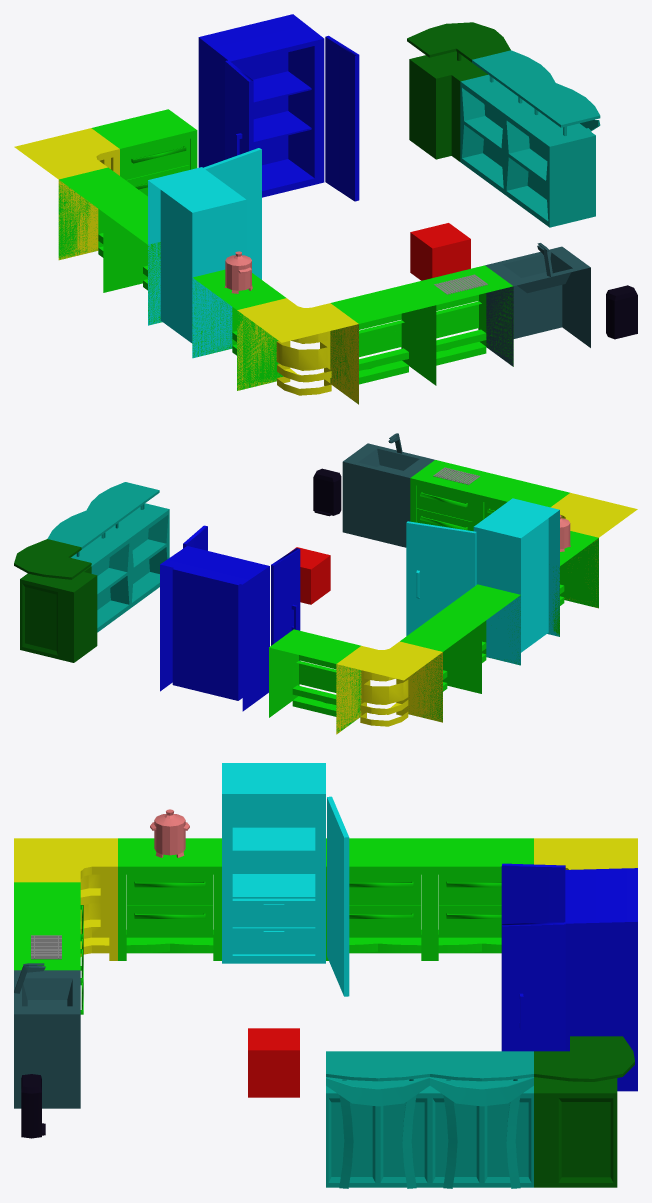
File: Test_large 2.fbx
3 renders of one model, top to bottom at view 1: azimuth 30°, elevation 25°; view 2: azimuth 150°, elevation 25°; view 3: azimuth 270°, elevation 25°, orthographic. The views are drawn at different scales.
Visible parts, largest first — view 1: Aufbewahrungsschrank, Kühlschrank_1_low, Kundentheke_1_gerade_low1, Küchentheke_1_ecke_low1, Waschbecken_1_low, Kundentheke_1_ecke_low, Küchentheke_1_gerade_low5, Küchentheke_1_gerade_low6, Kundentheke_1_gerade_low, Küchentheke_1_gerade_low2, Küchentheke_1_gerade_low1, Küchentheke_1_ecke_low (+6 smaller); view 2: Aufbewahrungsschrank, Kühlschrank_1_low, Kundentheke_1_ecke_low, Küchentheke_1_ecke_low, Waschbecken_1_low, Küchentheke_1_gerade_low4, Kundentheke_1_gerade_low1, Kundentheke_1_gerade_low, Küchentheke_1_gerade_low2, Küchentheke_1_gerade_low6, Küchentheke_1_gerade_low3, Küchentheke_1_gerade_low1 (+5 smaller); view 3: Aufbewahrungsschrank, Kühlschrank_1_low, Kundentheke_1_gerade_low, Kundentheke_1_gerade_low1, Kundentheke_1_ecke_low, Küchentheke_1_gerade_low1, Küchentheke_1_gerade_low3, Küchentheke_1_gerade_low2, Waschbecken_1_low, Küchentheke_1_ecke_low1, Aufbewahrungskiste_1_low, Küchentheke_1_gerade_low5 (+5 smaller).
Boxes of the visible parts, box(x1,y1,x2,y2) form: Aufbewahrungsschrank: box(198, 14, 359, 201); Kühlschrank_1_low: box(148, 148, 261, 358); Kundentheke_1_gerade_low1: box(505, 83, 600, 227); Küchentheke_1_ecke_low1: box(237, 298, 358, 404); Waschbecken_1_low: box(485, 243, 590, 366); Kundentheke_1_ecke_low: box(407, 22, 510, 161); Küchentheke_1_gerade_low5: box(330, 284, 436, 403); Küchentheke_1_gerade_low6: box(408, 265, 513, 383); Kundentheke_1_gerade_low: box(460, 50, 555, 194); Küchentheke_1_gerade_low2: box(58, 167, 147, 292); Küchentheke_1_gerade_low1: box(192, 269, 285, 390); Küchentheke_1_ecke_low: box(14, 128, 119, 260); Aufbewahrungsschrank: box(160, 525, 300, 711); Kühlschrank_1_low: box(406, 498, 559, 665); Kundentheke_1_ecke_low: box(14, 539, 97, 662); Küchentheke_1_ecke_low: box(336, 641, 442, 734); Waschbecken_1_low: box(342, 433, 434, 547); Küchentheke_1_gerade_low4: box(269, 629, 361, 733); Kundentheke_1_gerade_low1: box(86, 482, 169, 607); Kundentheke_1_gerade_low: box(47, 510, 130, 632); Küchentheke_1_gerade_low2: box(400, 613, 481, 721); Küchentheke_1_gerade_low6: box(410, 460, 502, 531); Küchentheke_1_gerade_low3: box(439, 584, 520, 692); Küchentheke_1_gerade_low1: box(549, 531, 598, 636); Aufbewahrungsschrank: box(501, 863, 637, 1091); Kühlschrank_1_low: box(222, 763, 349, 996); Kundentheke_1_gerade_low: box(430, 1051, 533, 1188); Kundentheke_1_gerade_low1: box(326, 1051, 429, 1188); Kundentheke_1_ecke_low: box(534, 1036, 634, 1187); Küchentheke_1_gerade_low1: box(118, 838, 221, 960); Küchentheke_1_gerade_low3: box(326, 838, 429, 960); Küchentheke_1_gerade_low2: box(430, 838, 533, 960); Waschbecken_1_low: box(14, 963, 80, 1108); Küchentheke_1_ecke_low1: box(14, 838, 117, 960); Aufbewahrungskiste_1_low: box(248, 1028, 299, 1097); Küchentheke_1_gerade_low5: box(14, 882, 83, 970).
Size of the model in its own units: 597 by 180 by 600.
